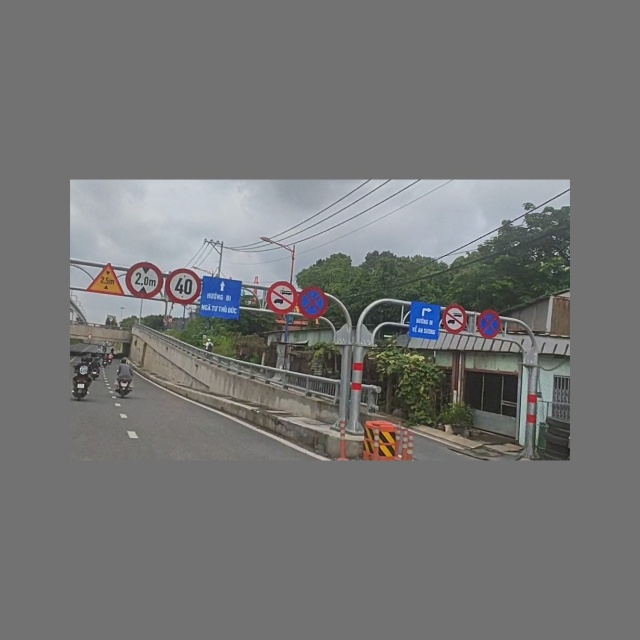P.107: (255, 270, 308, 324), (435, 297, 476, 341)
P.117*: (114, 250, 176, 310)
P.127*40: (156, 259, 211, 314)
P.130: (289, 277, 339, 327), (470, 303, 510, 346)
W.239b*: (76, 252, 131, 305)
